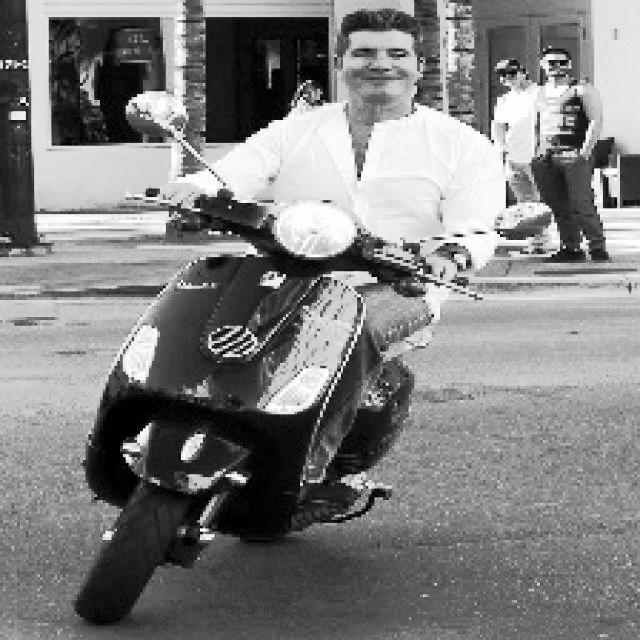Bike: (63, 182, 405, 608)
